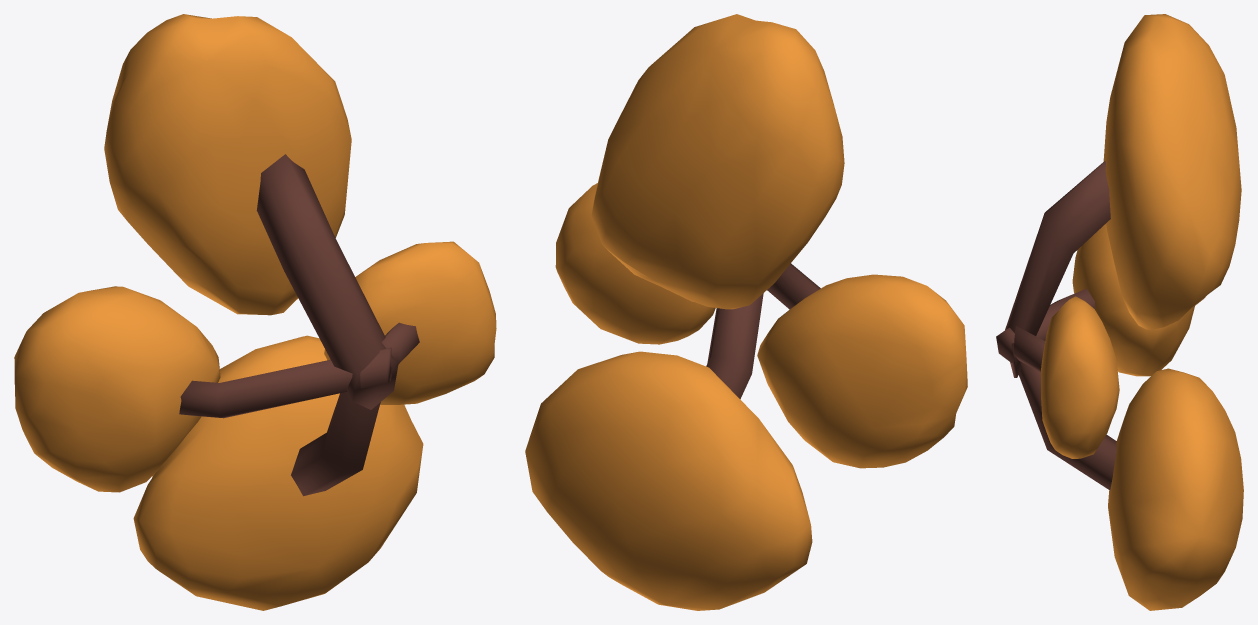
The model's file is BushDesert1.fbx.
The picture shows the model from 3 angles, left to right: view 1: azimuth 30°, elevation 25°; view 2: azimuth 150°, elevation 25°; view 3: azimuth 270°, elevation 25°; orthographic projection. The views are drawn at different scales.
Visible parts, largest first — view 1: Cube.002; view 2: Cube.002; view 3: Cube.002.
Part boxes in pixels (bbox=[...]): Cube.002: bbox=[14, 14, 496, 610]; Cube.002: bbox=[525, 14, 967, 610]; Cube.002: bbox=[996, 14, 1243, 610].
Bounding box in the file's own units: 485 × 639 × 263.
